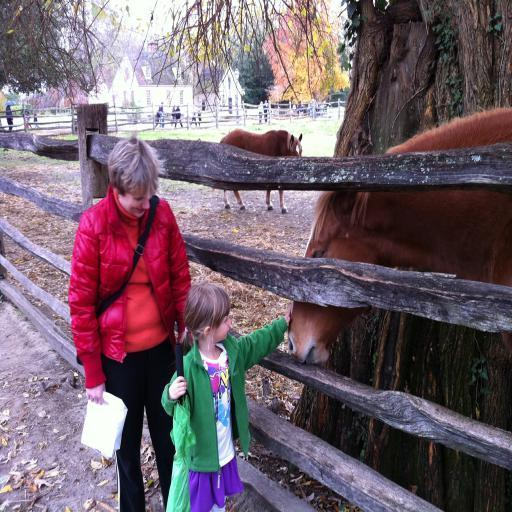horse: (286, 104, 512, 366), (210, 128, 304, 216)
